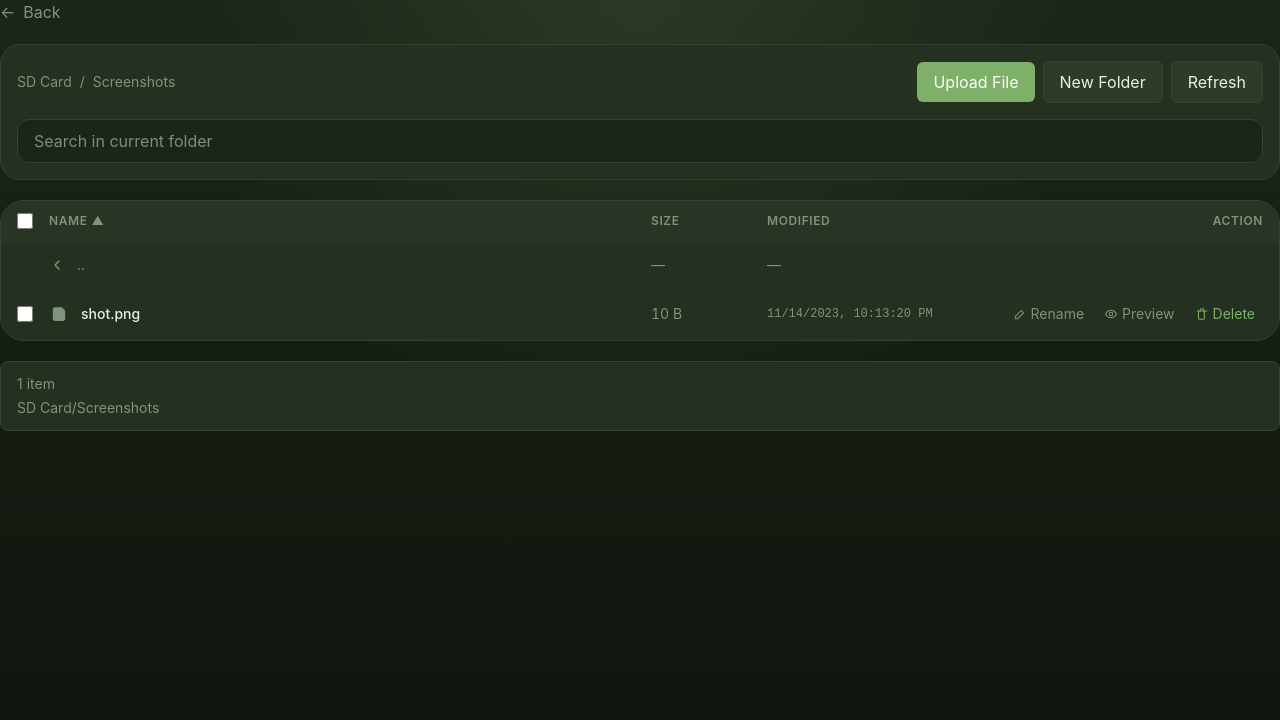
Test: BrowserView › opens an image preview dialog with an inline image and a plain download link
Click the button with aria-label "Preview shot.png" at (111, 314), box [49,304,635,324]
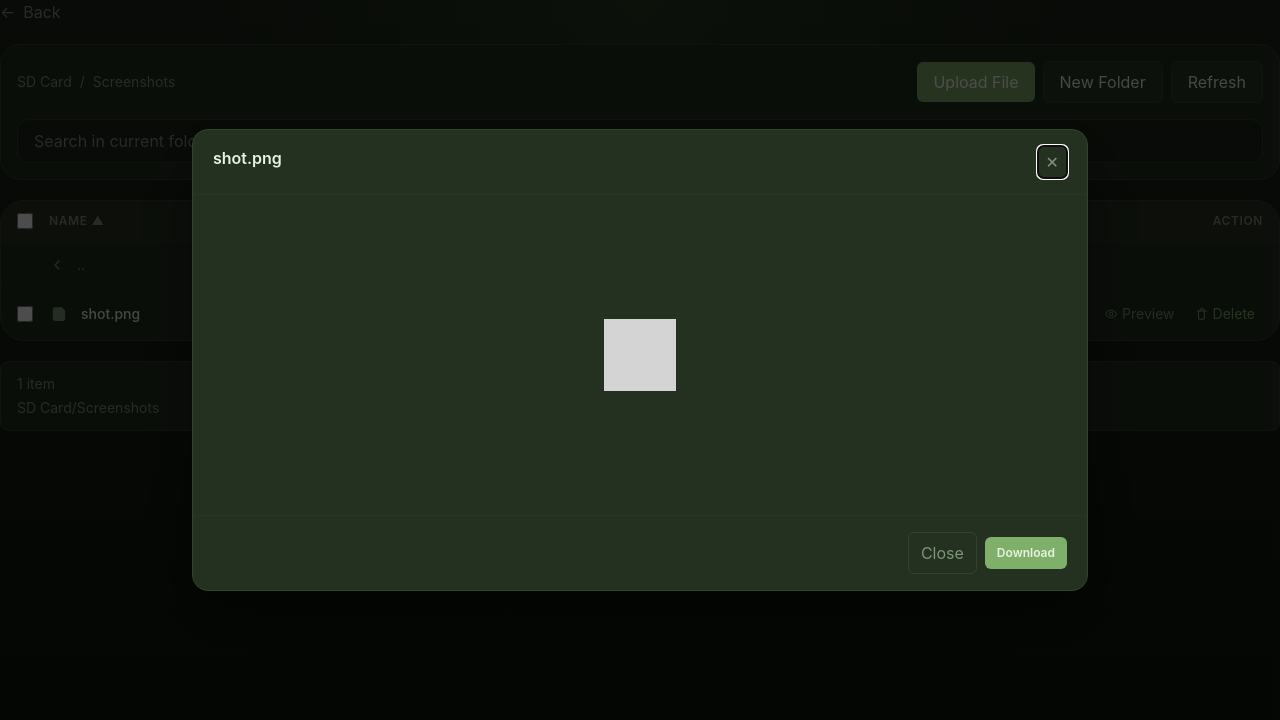
Result: the heading "shot.png" is shown at [213,146,282,170]
